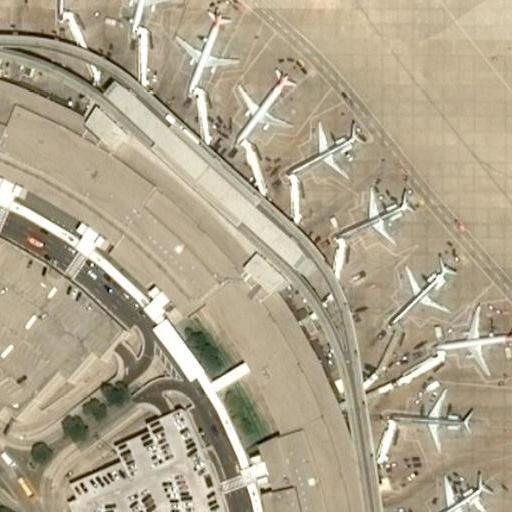Aircraft: (284, 124, 377, 186), (171, 14, 239, 98), (432, 304, 512, 372), (336, 188, 422, 242), (229, 70, 293, 142), (391, 265, 455, 324), (110, 0, 181, 35), (31, 0, 93, 10)
